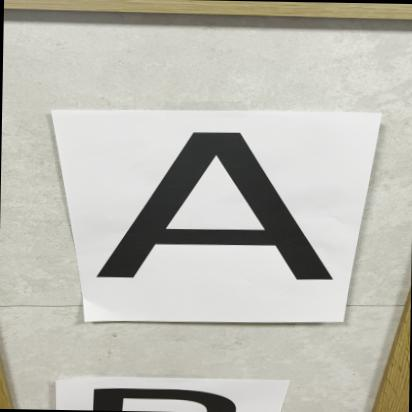seat: (94, 120, 354, 307)
